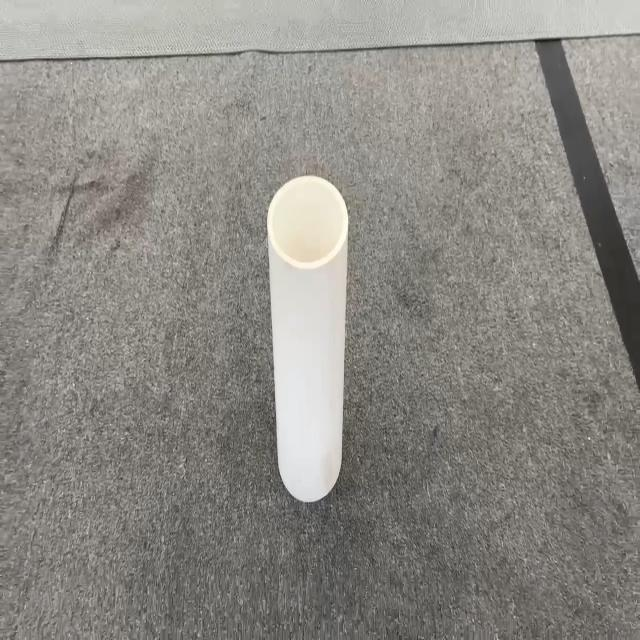coral: (265, 172, 349, 502)
